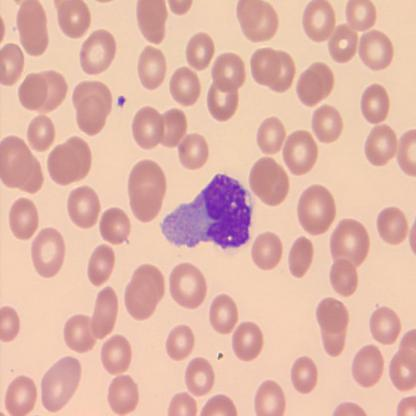Monocyte: (159, 169, 255, 251)
